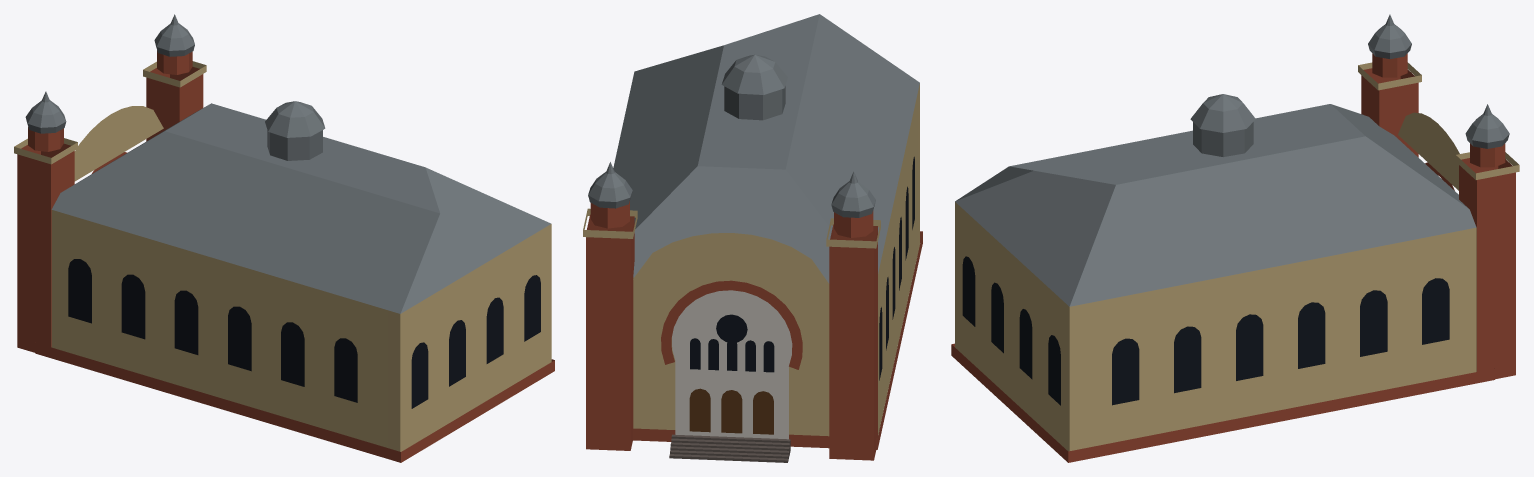
File: philharmonic-lo.glb
3 views of the same model, side by side, from view 1: azimuth 30°, elevation 25°; view 2: azimuth 150°, elevation 25°; view 3: azimuth 270°, elevation 25° (orthographic). The views are drawn at different scales.
Parts seen in each view (by area): view 1: lm-philharmonic; view 2: lm-philharmonic; view 3: lm-philharmonic.
Boxes of the visible parts, <box> form: lm-philharmonic: <box>14,14,554,462</box>; lm-philharmonic: <box>583,14,922,462</box>; lm-philharmonic: <box>951,14,1519,462</box>.
Bounding box in the file's own units: 36.57 × 23.9 × 44.92.
